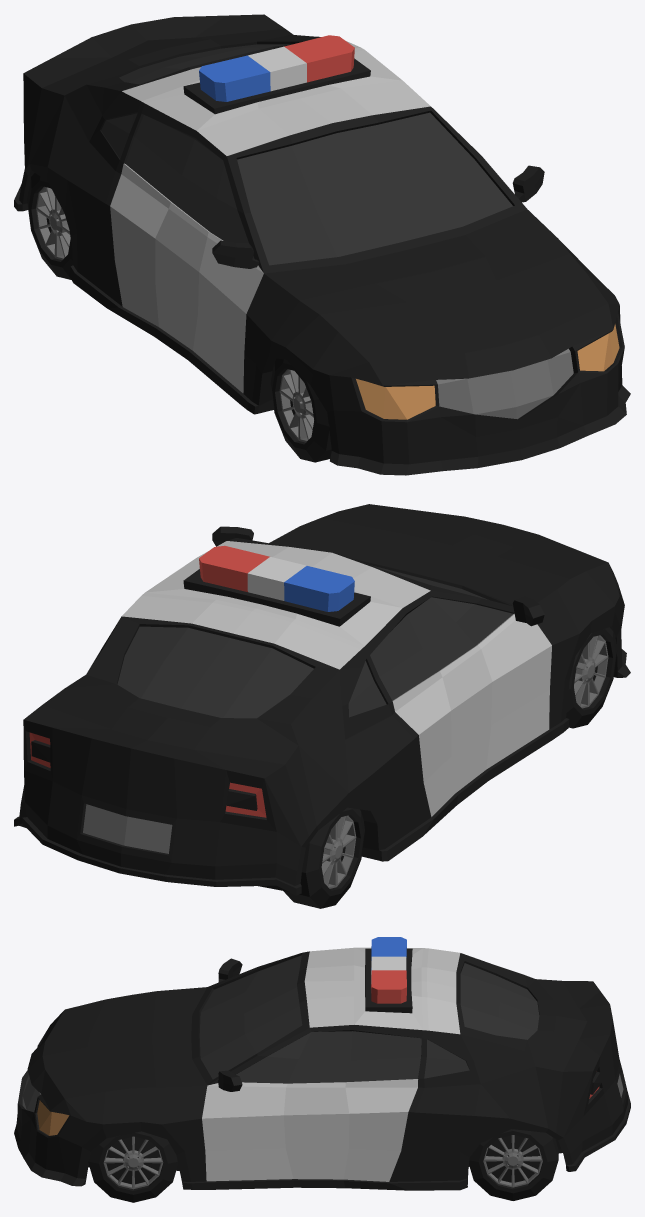
Rendered from Cop.glb.
3 views of the same model, one above another, from view 1: azimuth 30°, elevation 25°; view 2: azimuth 150°, elevation 25°; view 3: azimuth 270°, elevation 25° (orthographic). The views are drawn at different scales.
Visible parts, largest first — view 1: Cop, Cop_FrontRightWheel, Cop_BackWheels; view 2: Cop, Cop_BackWheels, Cop_FrontRightWheel; view 3: Cop, Cop_BackWheels, Cop_FrontLeftWheel.
Part boxes in pixels (x1,y1,x2,y2): Cop: [14, 14, 630, 475]; Cop_FrontRightWheel: [270, 358, 331, 462]; Cop_BackWheels: [27, 173, 73, 279]; Cop: [14, 504, 630, 895]; Cop_BackWheels: [283, 807, 364, 908]; Cop_FrontRightWheel: [566, 627, 617, 728]; Cop: [14, 937, 630, 1190]; Cop_BackWheels: [469, 1129, 558, 1200]; Cop_FrontLeftWheel: [88, 1131, 178, 1202].
Bounding box in the file's own units: 1.78 × 1.24 × 3.73.
